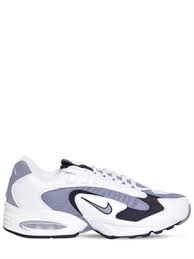nike: (75, 191, 121, 219)
